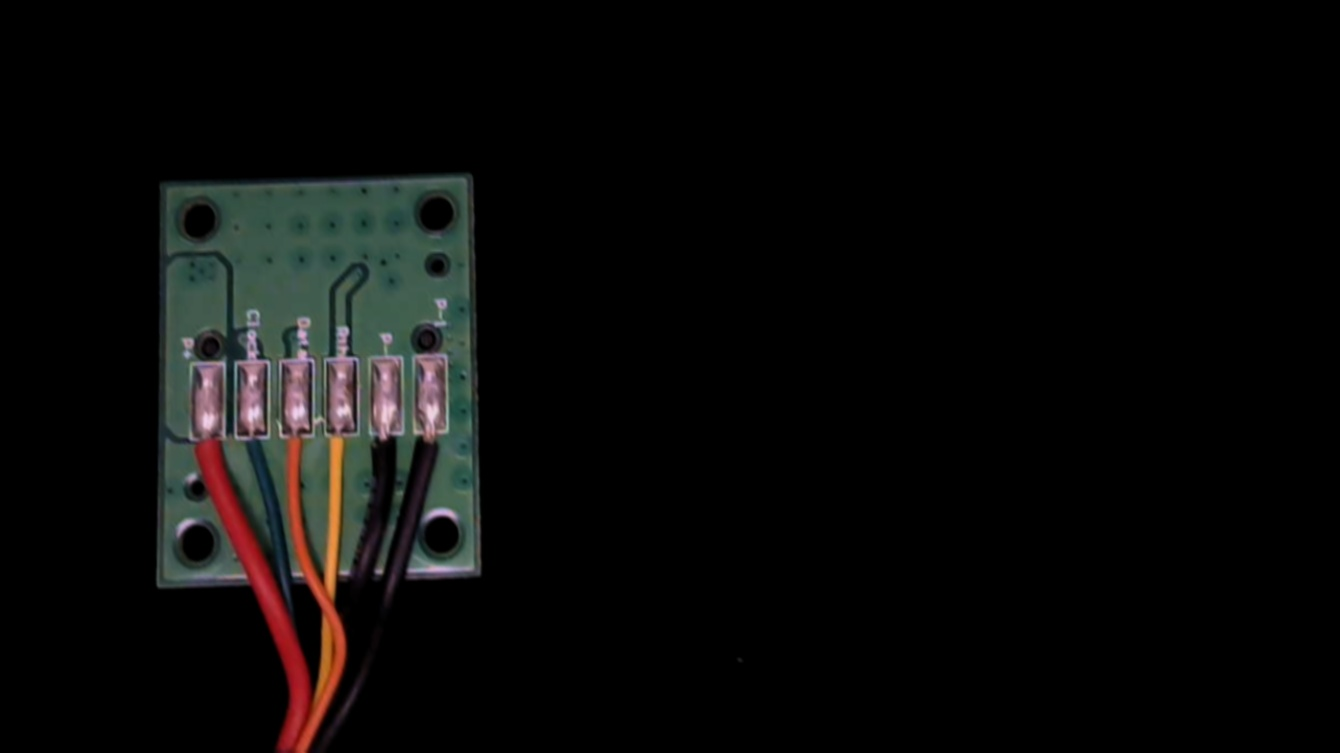Black: (367, 418, 400, 498)
Black1: (413, 416, 447, 490)
Green: (232, 420, 269, 495)
Orange: (276, 421, 312, 501)
Red: (187, 424, 227, 495)
Yellow: (319, 419, 357, 495)
